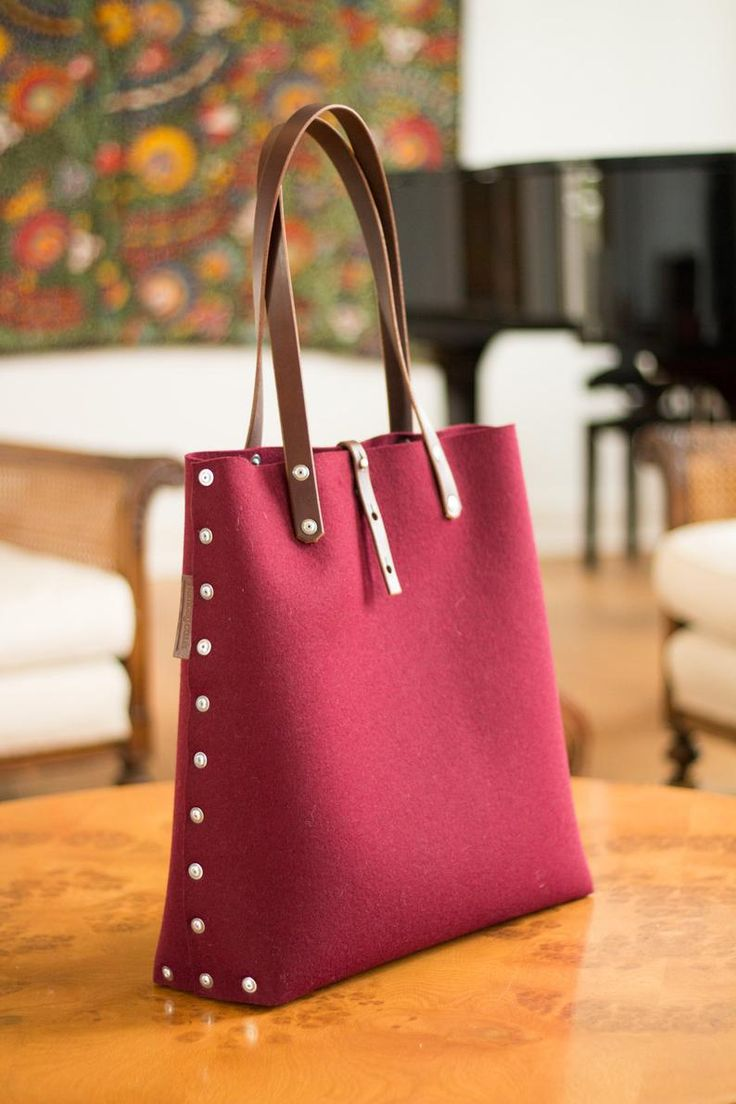cuero: (241, 104, 461, 594)
